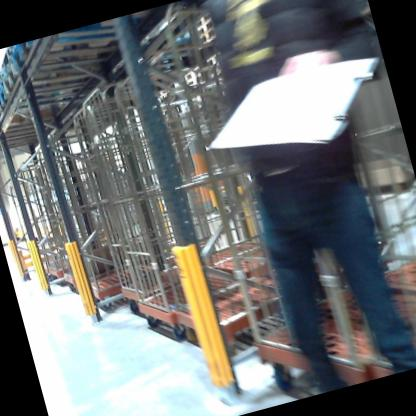pallet: (9, 13, 146, 84), (0, 32, 111, 110), (0, 57, 110, 120), (0, 96, 66, 139), (0, 110, 69, 146), (0, 121, 63, 160)
